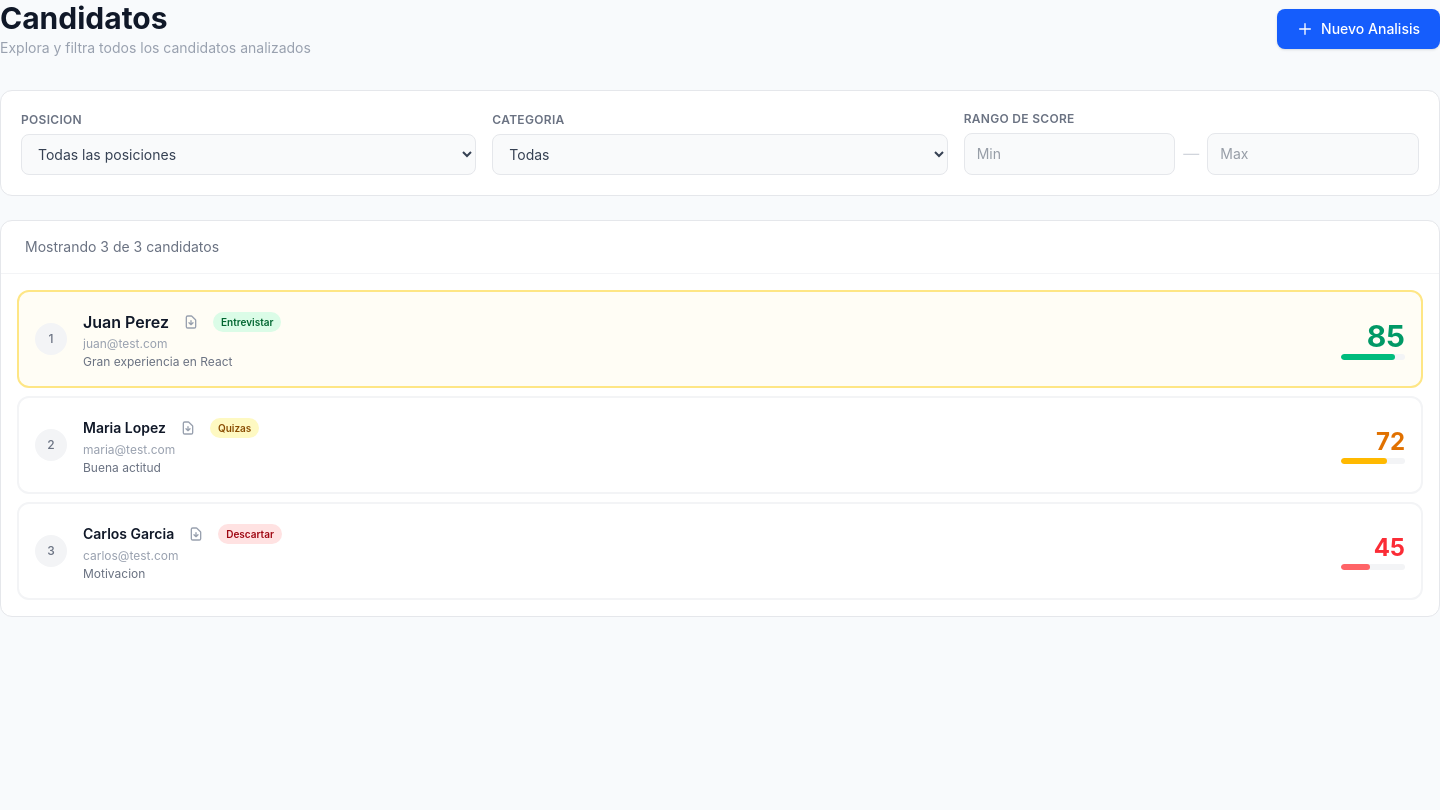
Scenario: CandidatesDashboard › shows candidate detail on click
Click the heading "Juan Perez" at (126, 322), box [83, 310, 169, 334]
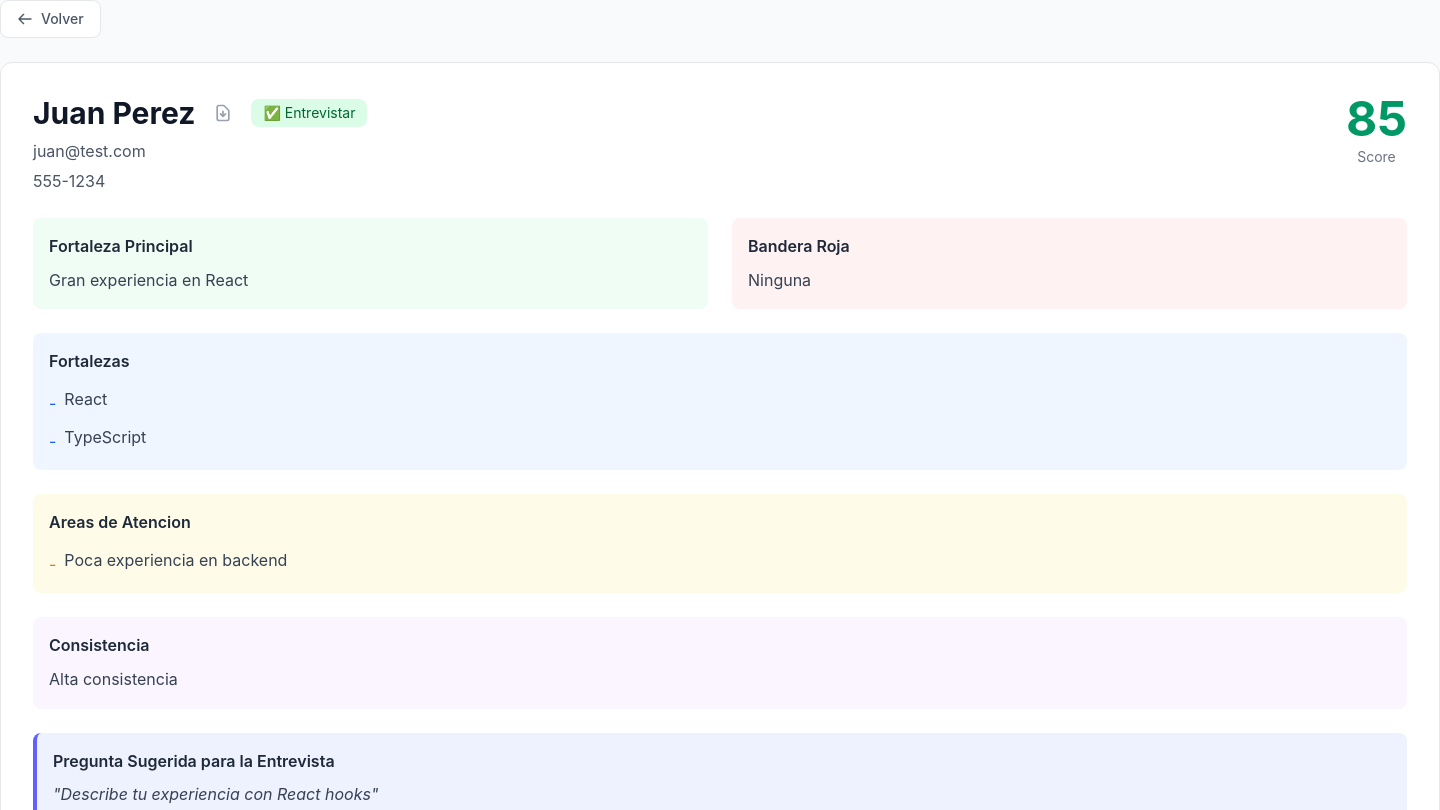
Expected: the text "Gran experiencia en React" is shown, [49, 270, 248, 290]
Expected: the button "Volver" is shown, [0, 0, 101, 38]
